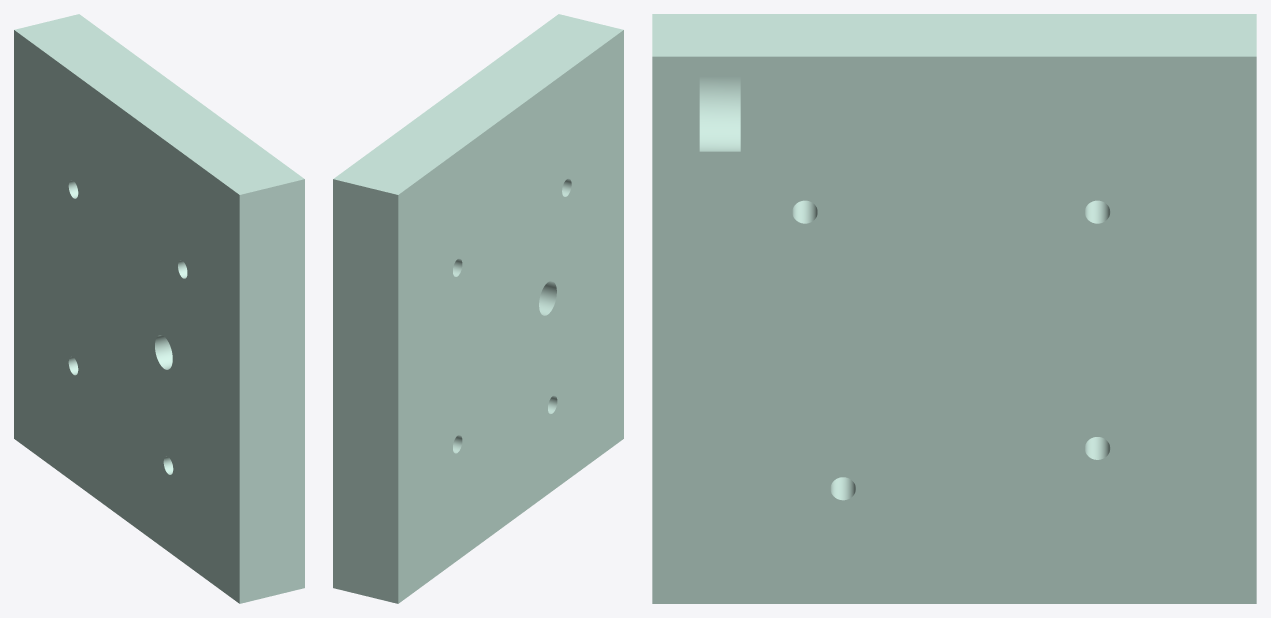
3 renders of one model, left to right at view 1: azimuth 30°, elevation 25°; view 2: azimuth 150°, elevation 25°; view 3: azimuth 270°, elevation 25°, orthographic. The views are drawn at different scales.
Parts seen in each view (by area): view 1: Renderer Node; view 2: Renderer Node; view 3: Renderer Node.
Part boxes in pixels (<box>): Renderer Node: <box>14,14,304,603</box>; Renderer Node: <box>333,14,623,603</box>; Renderer Node: <box>652,14,1256,603</box>.
Bounding box in the file's own units: 0.25 × 1.5 × 1.5.
